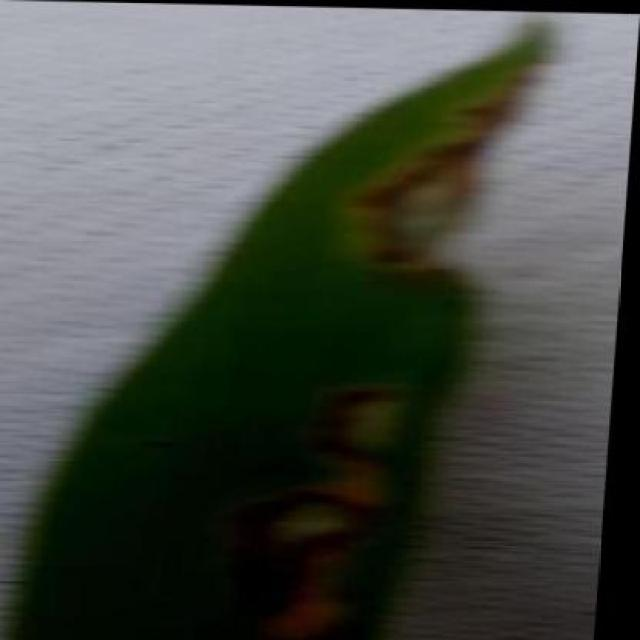Bacterial_Leaf_Blight: (318, 88, 550, 290), (228, 379, 448, 572), (206, 566, 411, 640)
